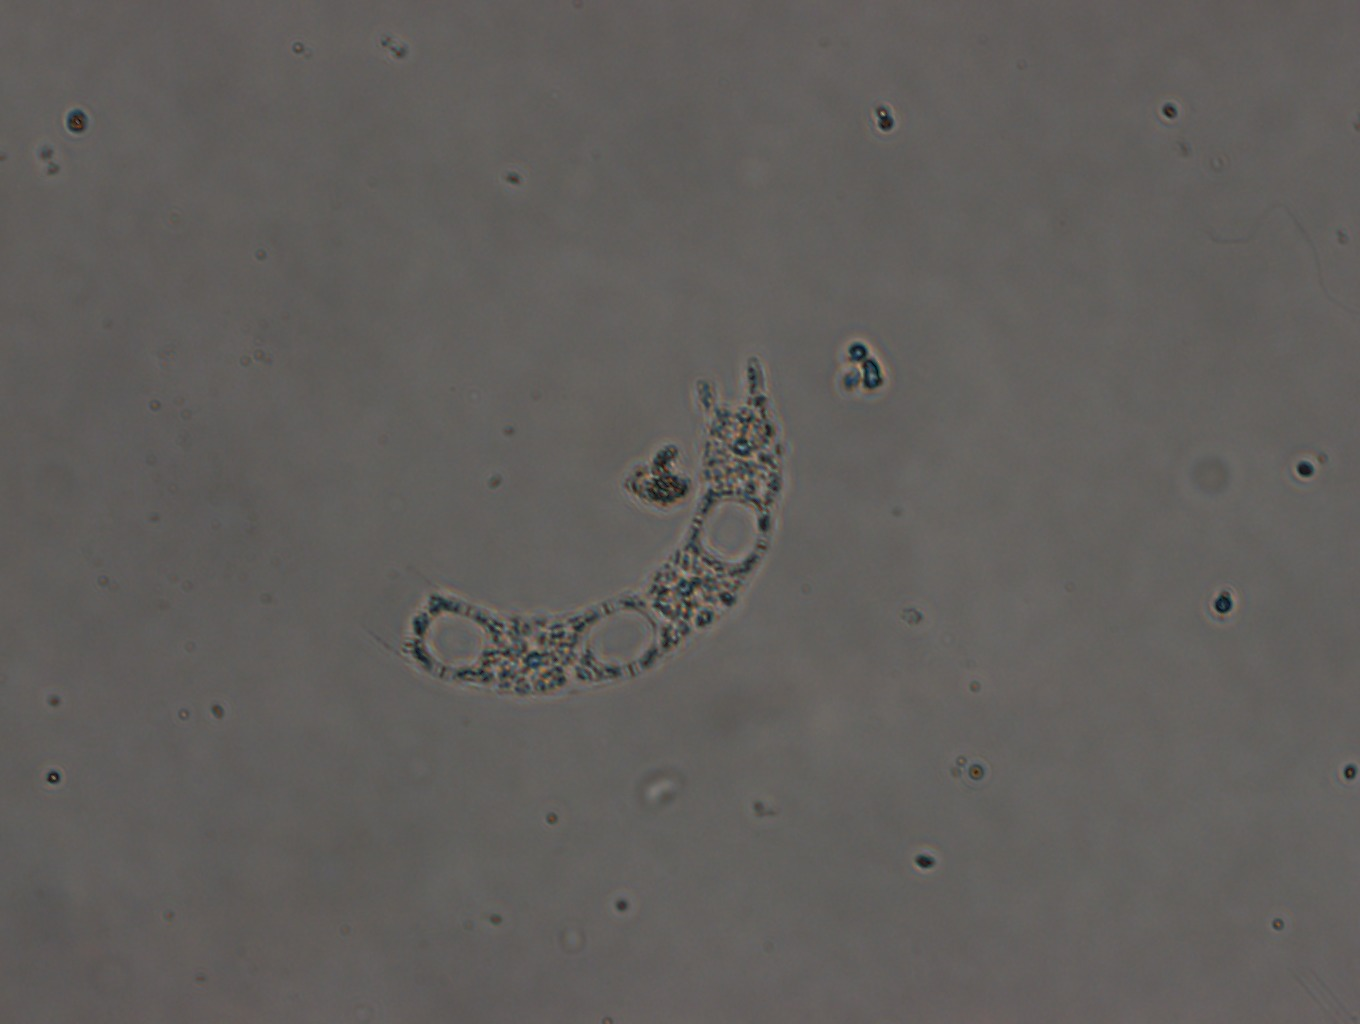eucampia: (368, 359, 790, 700)
